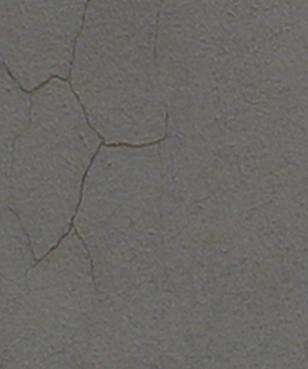fissura: (5, 8, 158, 324)
